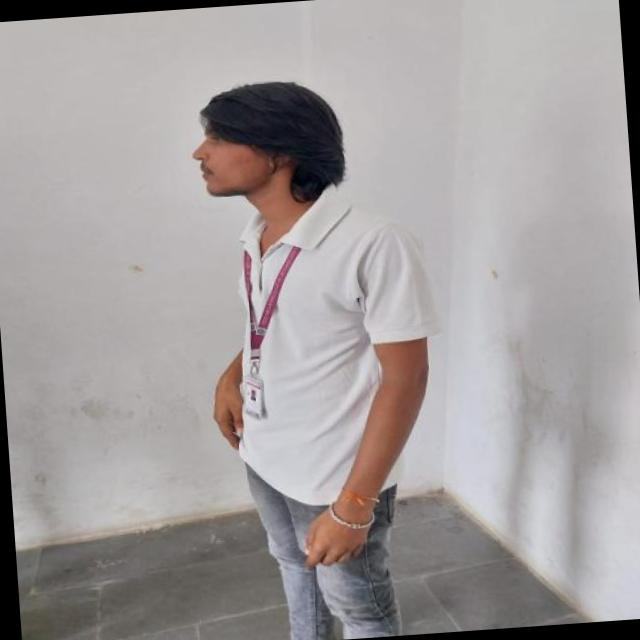id_card: (223, 238, 304, 422)
